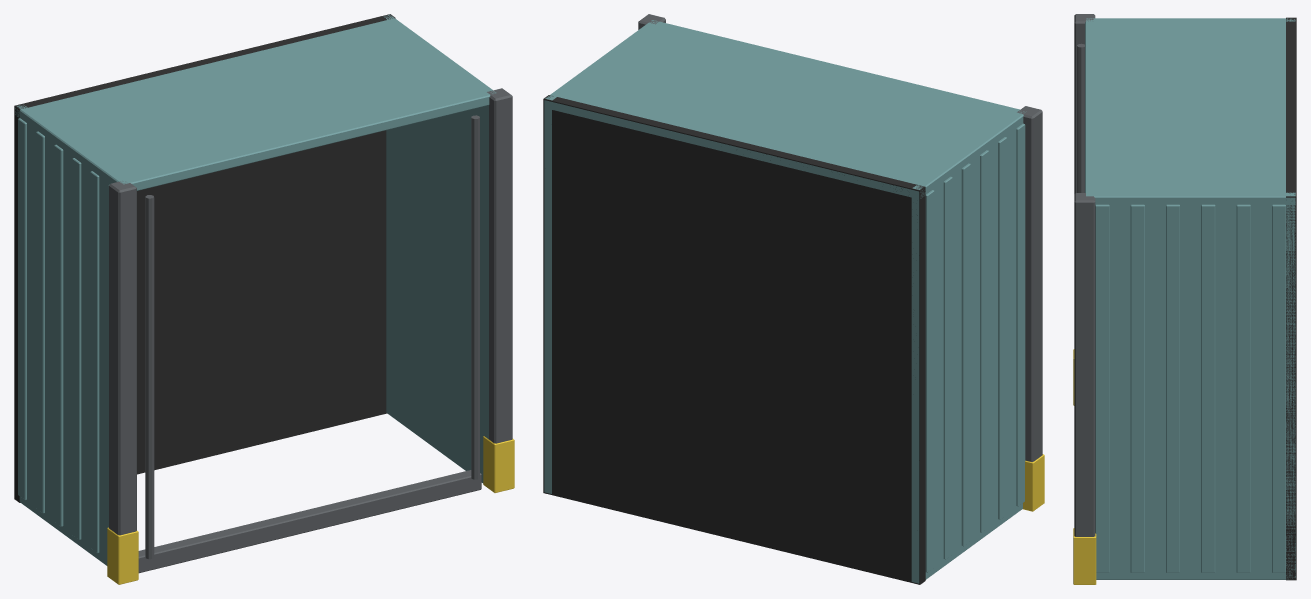
File: container_section.glb
3 renders of one model, left to right at view 1: azimuth 30°, elevation 25°; view 2: azimuth 150°, elevation 25°; view 3: azimuth 270°, elevation 25°, orthographic. The views are drawn at different scales.
Parts seen in each view (by area): view 1: container_section; view 2: container_section; view 3: container_section.
Boxes of the visible parts, x1,y1,x2,y2 form: container_section: (14, 14, 514, 584); container_section: (543, 14, 1044, 584); container_section: (1073, 14, 1296, 584).
Size of the model in its own units: 2.53 by 2.4 by 1.27.
